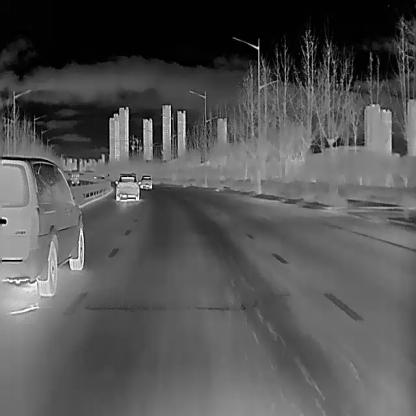car: (0, 155, 83, 295), (115, 172, 140, 201), (139, 174, 152, 188)
truck: (70, 168, 80, 184)
